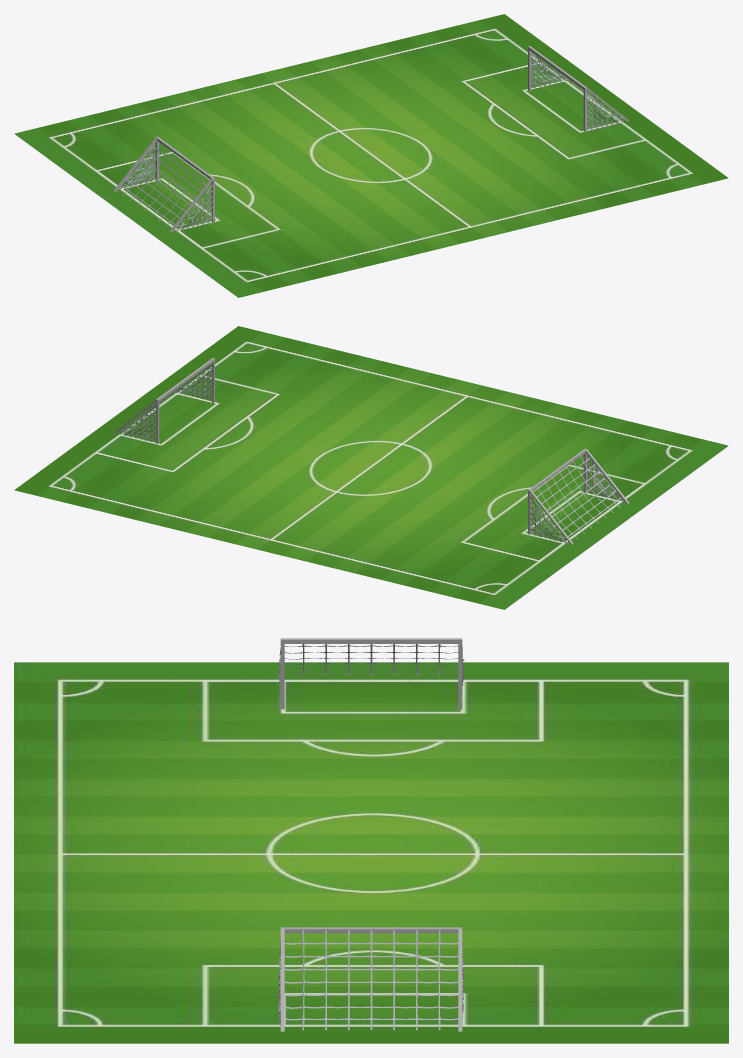
The model's file is CanchaIndividual.glb.
The picture shows the model from 3 angles, top to bottom: view 1: azimuth 30°, elevation 25°; view 2: azimuth 150°, elevation 25°; view 3: azimuth 270°, elevation 25°; orthographic projection. The views are drawn at different scales.
Parts seen in each view (by area): view 1: Cancha_Floor, Porteria1, Porteria2; view 2: Cancha_Floor, Porteria1, Porteria2; view 3: Cancha_Floor, Porteria2, Porteria1.
Boxes of the visible parts, x1,y1,x2,y2 form: Cancha_Floor: (14,14,728,297); Porteria1: (113,136,214,232); Porteria2: (528,46,629,131); Cancha_Floor: (14,326,728,609); Porteria1: (528,448,629,544); Porteria2: (113,358,214,443); Cancha_Floor: (14,662,728,1043); Porteria2: (278,927,464,1031); Porteria1: (278,638,464,709).
Size of the model in its own units: 3.22 by 0.2897 by 2.55.
Materials: 3 (1 with a texture image).
